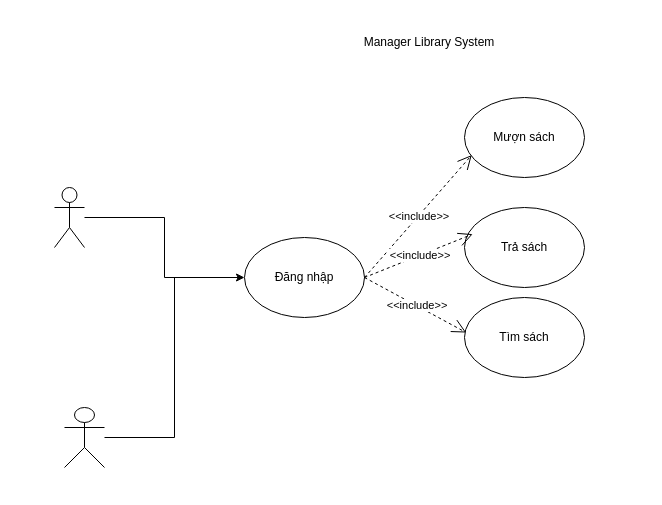
This 662x505 diagram has some shape labels left out. Here are the shapes that lost their labels. From the top down, the centre of each, then its label:
(69,217): Nhân viên thư viện
(84,437): Độc giả
